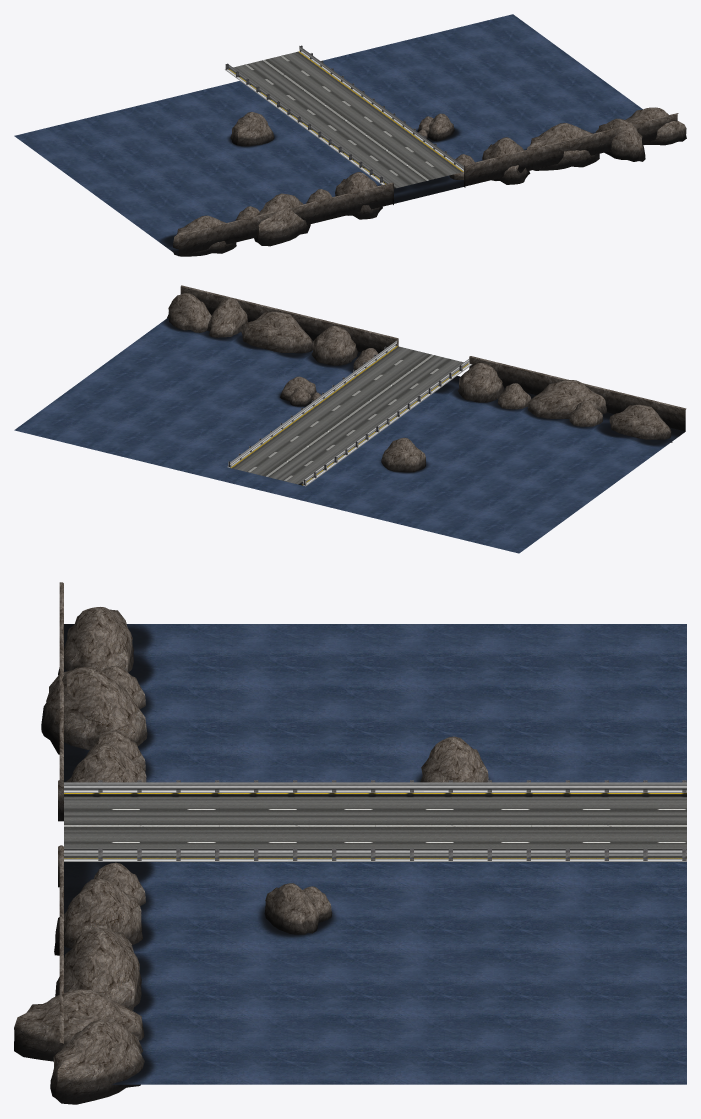
The model's file is scene5_end.FBX.
3 renders of one model, top to bottom at view 1: azimuth 30°, elevation 25°; view 2: azimuth 150°, elevation 25°; view 3: azimuth 270°, elevation 25°, orthographic. The views are drawn at different scales.
Parts seen in each view (by area): view 1: scene5_end, road007, relling006; view 2: scene5_end, road007, relling006; view 3: scene5_end, road007, relling006.
Part boxes in pixels (box(x1,y1,x2,y2)): scene5_end: box(14, 14, 686, 256); road007: box(229, 51, 463, 188); relling006: box(225, 45, 463, 184); scene5_end: box(14, 285, 686, 553); road007: box(231, 346, 468, 485); relling006: box(227, 340, 472, 486); scene5_end: box(14, 582, 686, 1104); road007: box(64, 793, 686, 858); relling006: box(64, 780, 686, 861).
Bounding box in the file's own units: 142 × 9.91 × 86.42.
